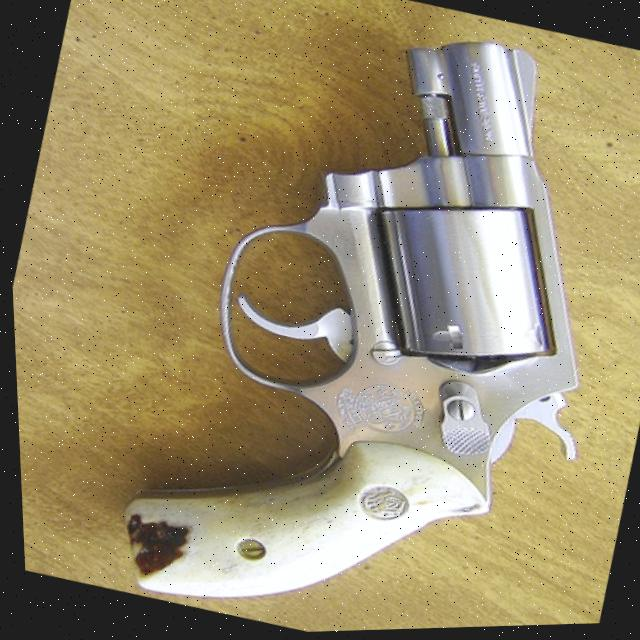pistol: (76, 0, 640, 638)
